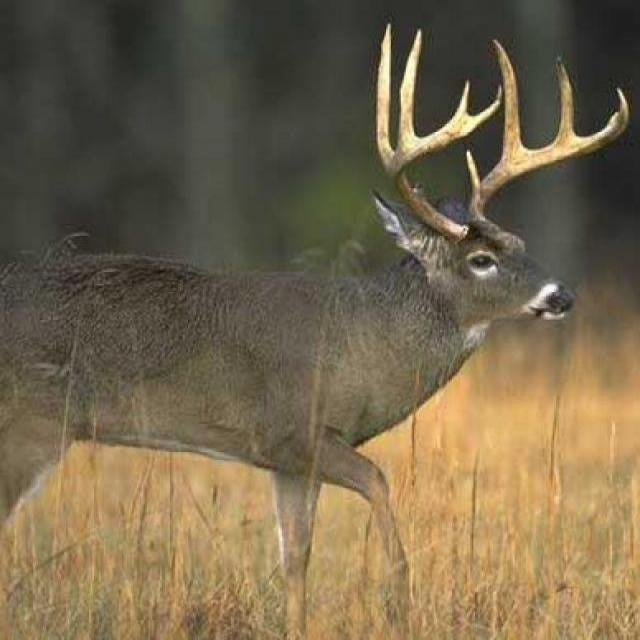deer: (5, 28, 632, 640)
